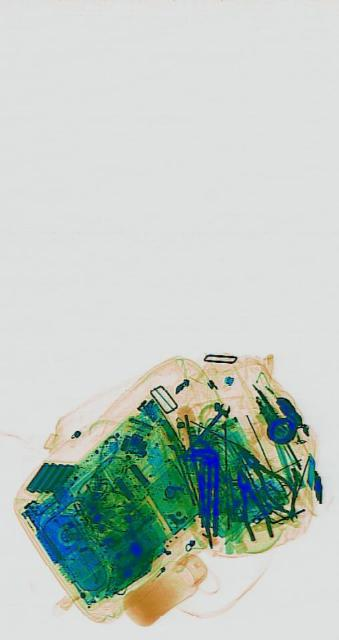Pliers: (236, 436, 292, 516), (227, 458, 272, 552)
Wrench: (179, 396, 228, 459)
